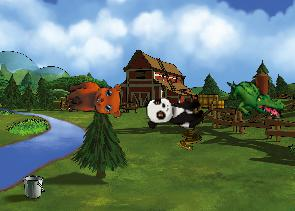bear: (62, 76, 126, 126)
crocodile: (224, 79, 286, 120)
panda: (144, 95, 205, 129)
